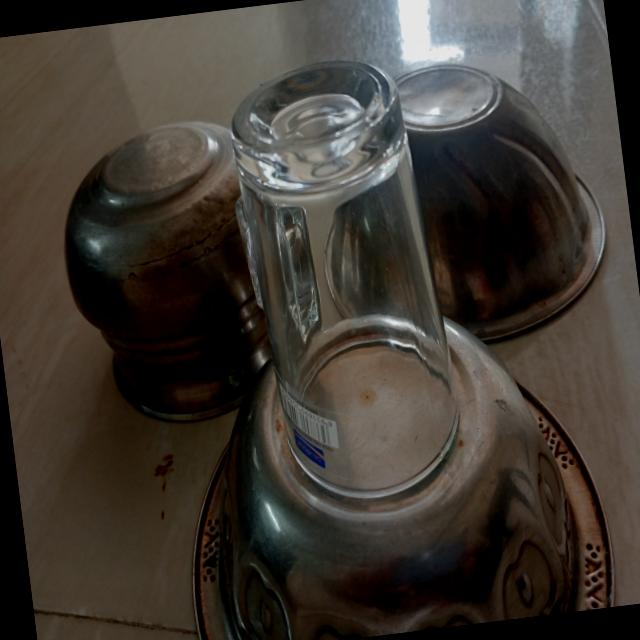glass-VX4N: (213, 47, 464, 506)
